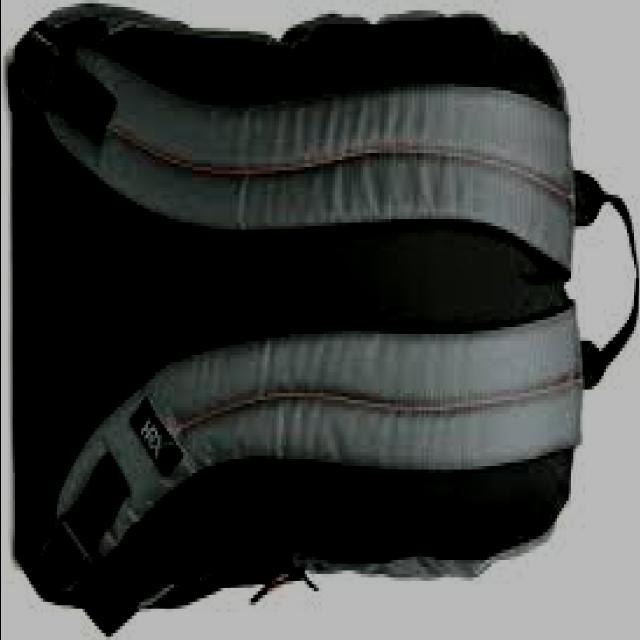backpack: (13, 1, 640, 637)
